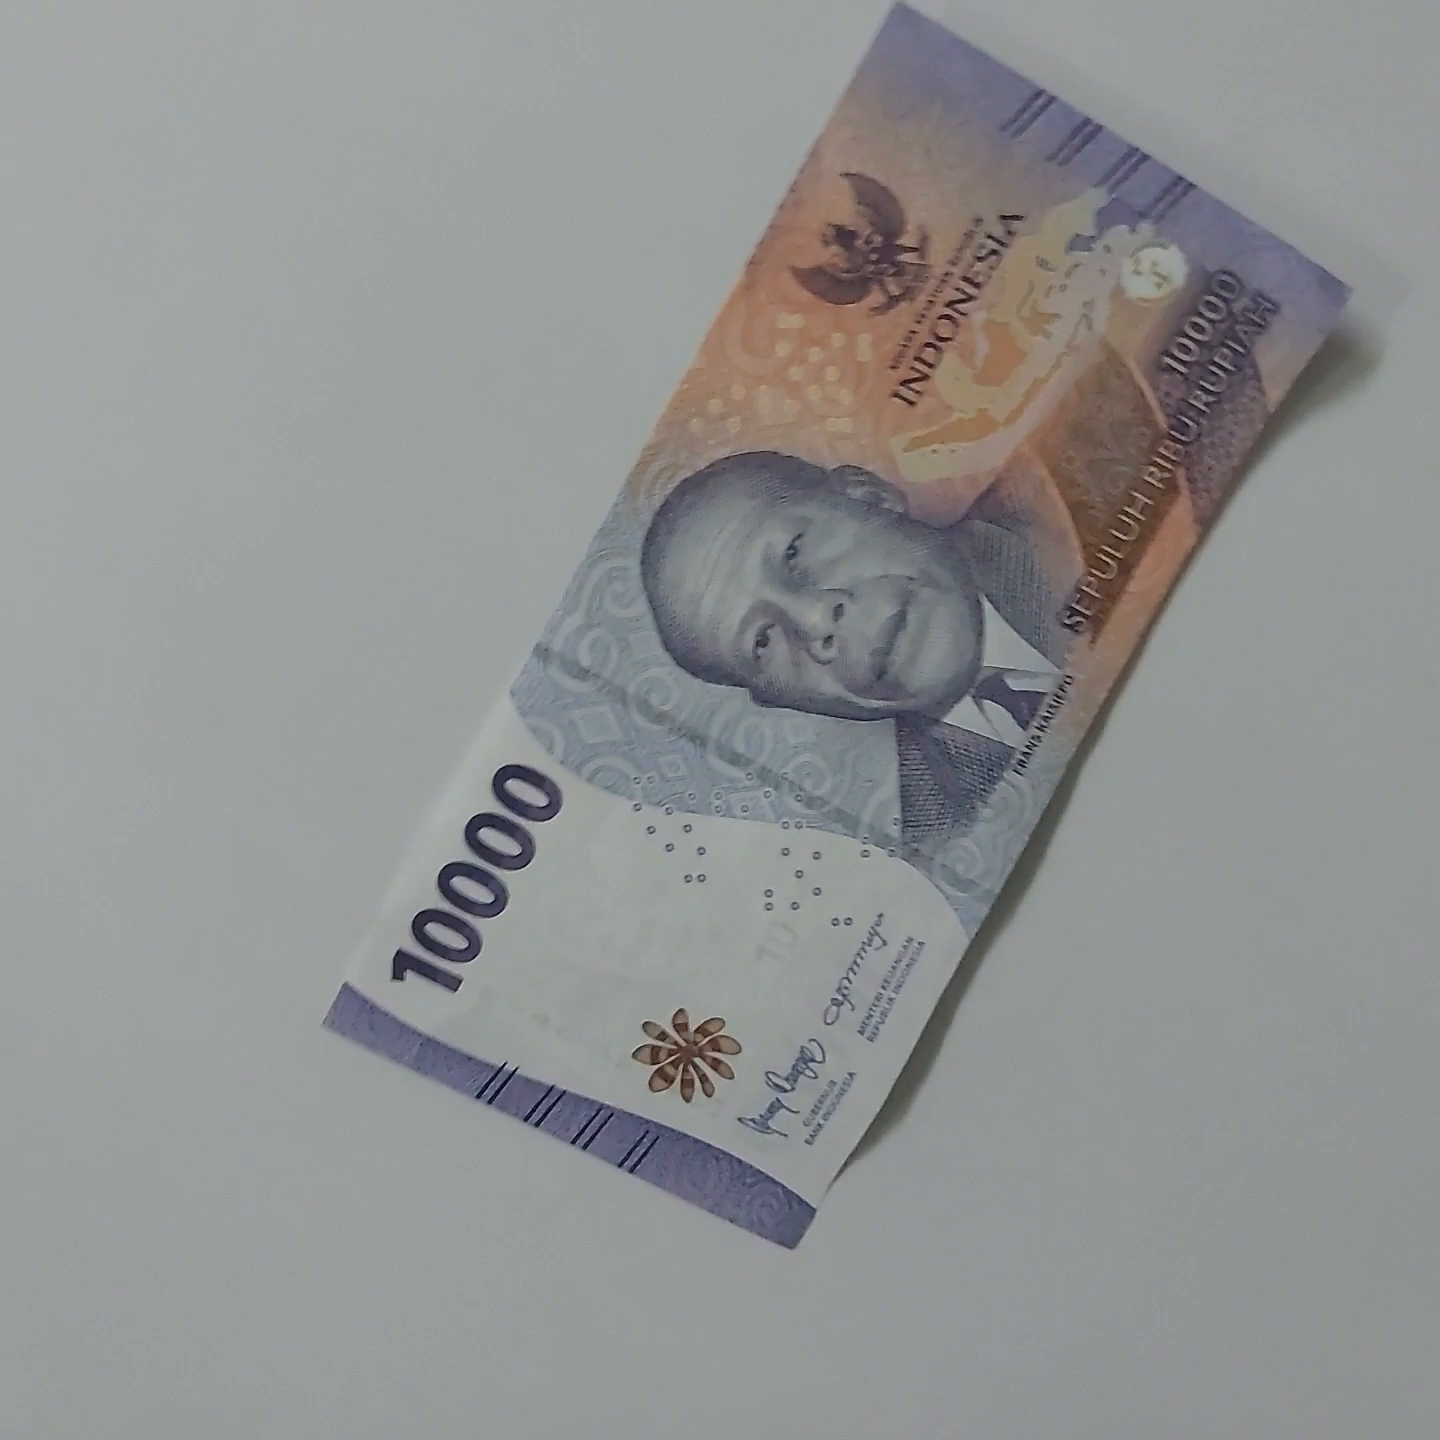10k: (314, 0, 1440, 1271)
